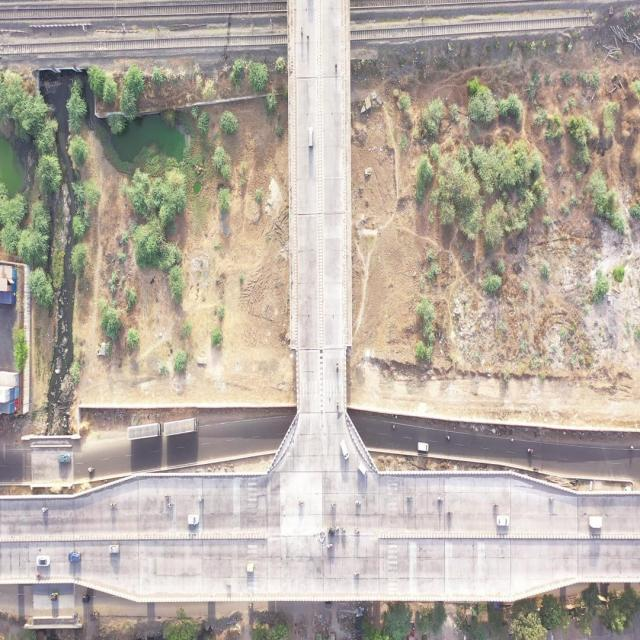3W: (244, 562, 255, 575), (326, 526, 335, 538), (90, 611, 99, 623), (49, 592, 59, 602), (81, 594, 90, 603), (323, 602, 332, 609)
Bus: (164, 416, 199, 437), (127, 422, 162, 441)
Cars: (356, 458, 369, 478), (340, 437, 350, 462), (496, 514, 510, 529), (589, 516, 603, 530), (36, 554, 51, 567), (57, 452, 72, 465), (187, 513, 200, 527), (68, 550, 81, 563), (308, 126, 315, 150), (417, 441, 429, 453), (108, 544, 120, 555)
M2W: (87, 465, 96, 474), (247, 602, 254, 612), (340, 524, 347, 534), (298, 499, 305, 507), (493, 501, 500, 509), (300, 25, 304, 39), (40, 507, 49, 513), (354, 526, 360, 535), (547, 496, 556, 502), (335, 362, 339, 375), (353, 570, 360, 577), (527, 448, 534, 455), (34, 573, 42, 579), (109, 502, 117, 508), (306, 33, 310, 45), (72, 610, 78, 618), (167, 502, 174, 508), (225, 582, 232, 588), (355, 500, 362, 506), (327, 544, 334, 550), (406, 495, 413, 501), (437, 496, 444, 502), (532, 466, 539, 472), (445, 435, 452, 441), (335, 60, 338, 74), (336, 399, 339, 412), (198, 496, 204, 502), (331, 502, 337, 508), (447, 509, 453, 515), (165, 494, 172, 499), (334, 525, 339, 532)
